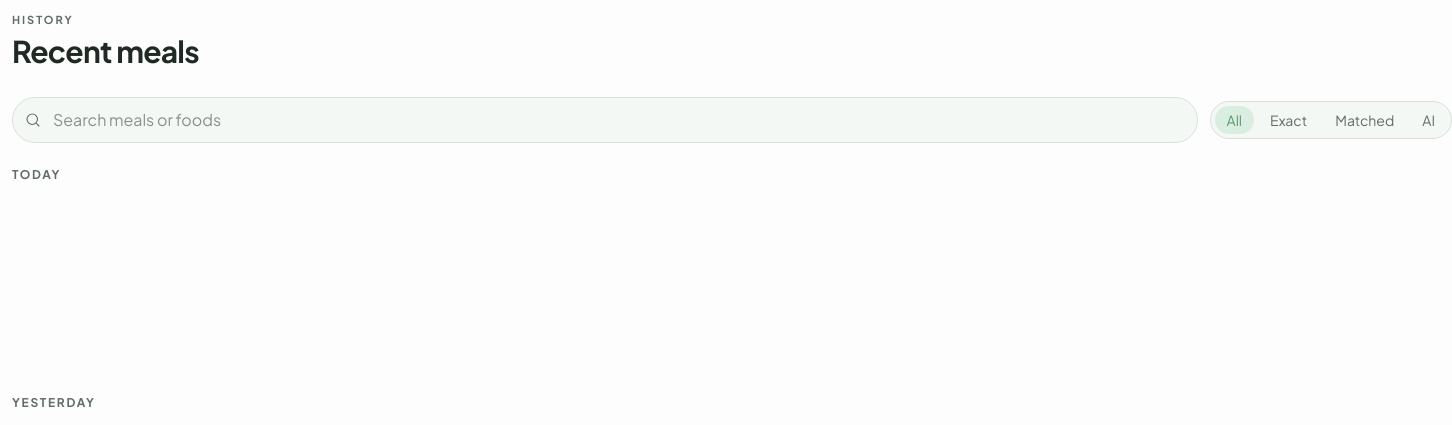
Test: History › filters meals by search text across raw text and item names
The width and height of the screenshot is (1452, 425).
Type "chicken" into the field labelled "Search meals" at (605, 120), box [12,96,1198,142]
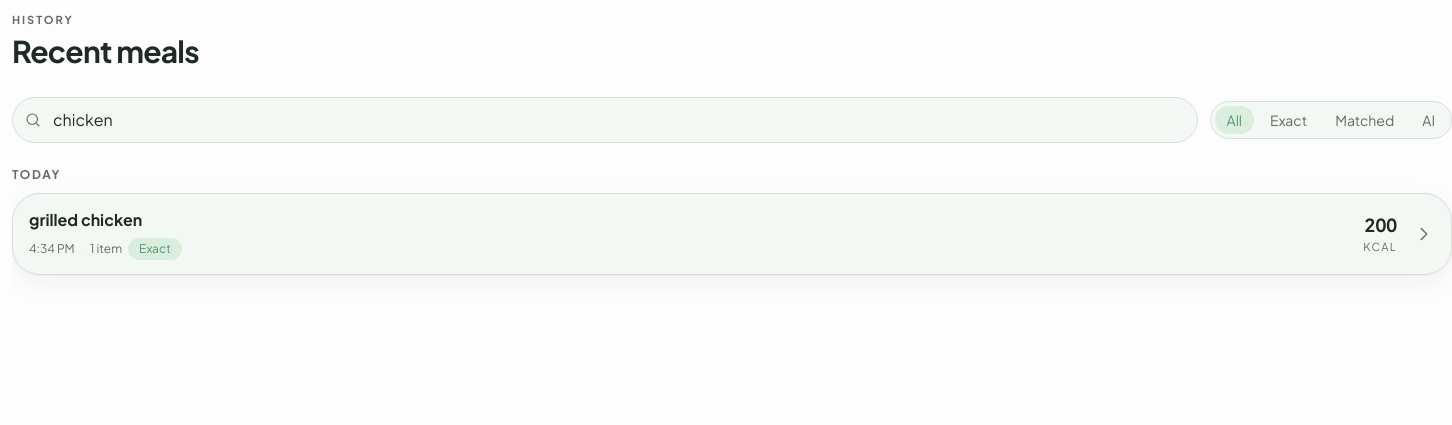
Expected: the text "grilled chicken" is shown, [29,208,142,230]
